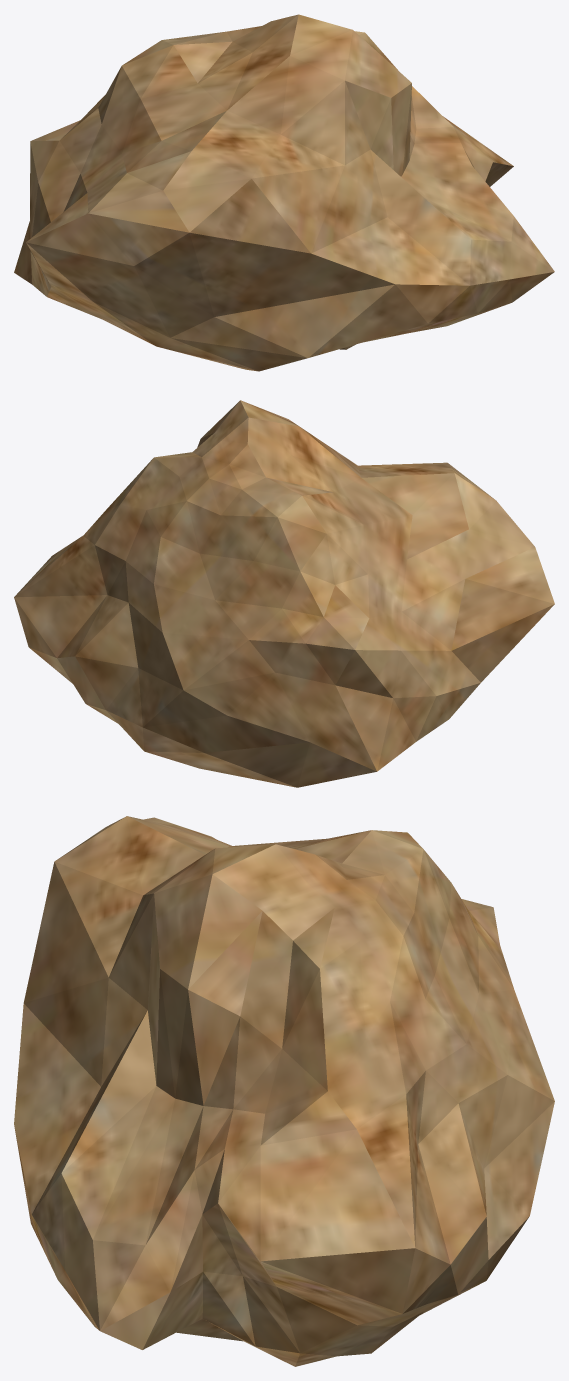
File: asteroids2.glb
3 views of the same model, one above another, from view 1: azimuth 30°, elevation 25°; view 2: azimuth 150°, elevation 25°; view 3: azimuth 270°, elevation 25° (orthographic). The views are drawn at different scales.
Parts seen in each view (by area): view 1: Икосфера.001; view 2: Икосфера.001; view 3: Икосфера.001.
Boxes of the visible parts, left/top/right/bottom form: Икосфера.001: left=14, top=14, right=554, bottom=371; Икосфера.001: left=14, top=400, right=554, bottom=787; Икосфера.001: left=14, top=816, right=554, bottom=1366.
Bounding box in the file's own units: 56.52 × 36.92 × 37.85.
1 material, 1 textured.
